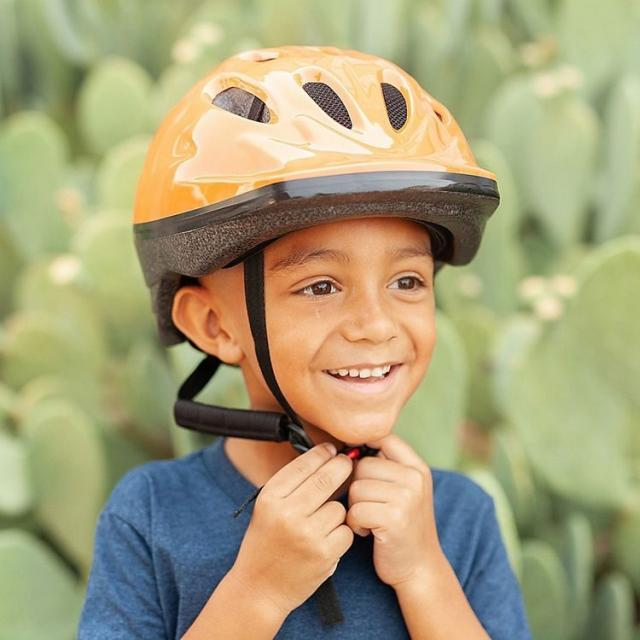Helmet: (129, 42, 502, 450)
